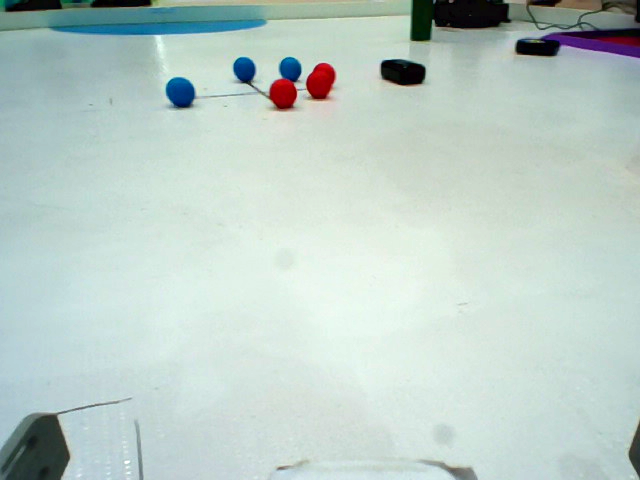black: (372, 51, 432, 92), (494, 36, 563, 57)
blue: (160, 77, 207, 114), (268, 56, 315, 83), (230, 57, 263, 90)
kuang: (544, 21, 640, 68)
red: (312, 59, 358, 92), (265, 78, 304, 112), (305, 70, 337, 105)
zhuzi: (391, 1, 441, 50)
